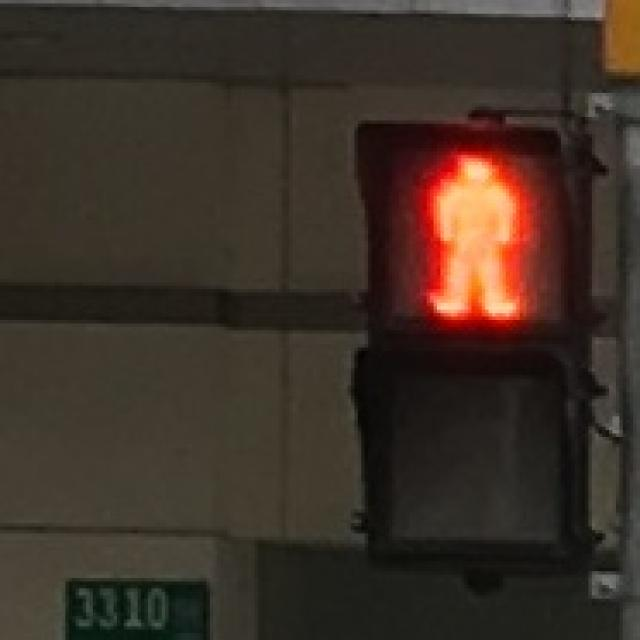red_light: (392, 148, 540, 323)
